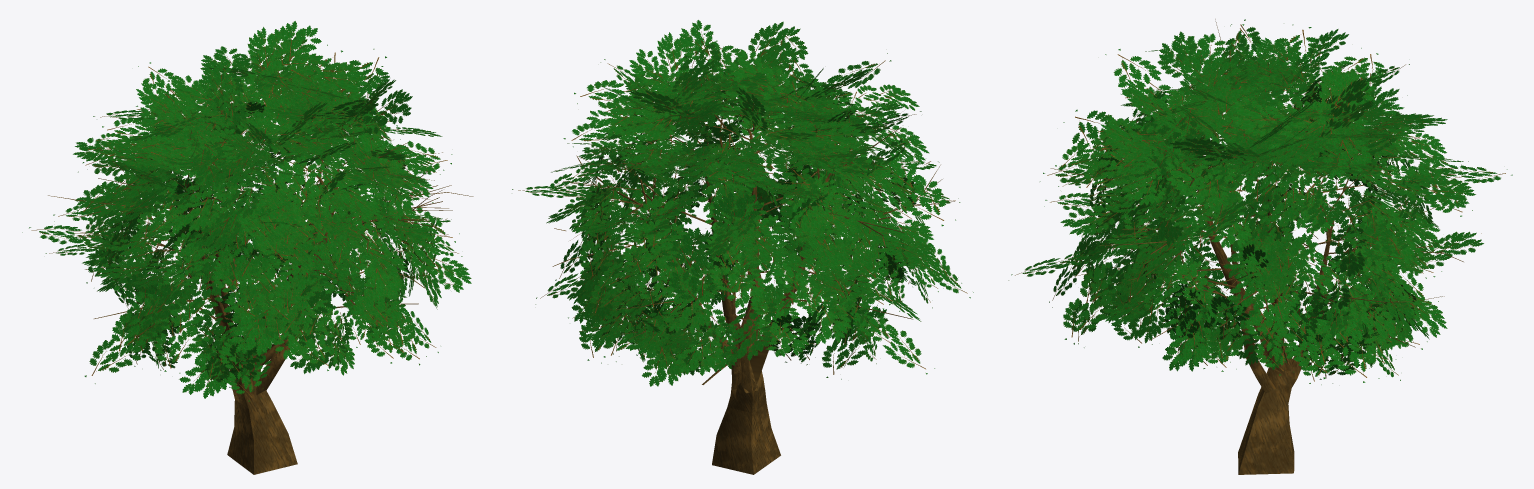
The model's file is roble_modelo.fbx.
3 renders of one model, left to right at view 1: azimuth 30°, elevation 25°; view 2: azimuth 150°, elevation 25°; view 3: azimuth 270°, elevation 25°, orthographic. The views are drawn at different scales.
Visible parts, largest first — view 1: roble_tronco_low:tronco2roble_low_3790f, polySurface351, polySurface182, polySurface111, polySurface135, polySurface57, polySurface327, polySurface326, polySurface370, polySurface78, polySurface42, polySurface205 (+95 smaller); view 2: roble_tronco_low:tronco2roble_low_3790f, polySurface101, polySurface134, polySurface176, polySurface368, polySurface39, polySurface99, polySurface13, polySurface194, polySurface217, polySurface223, polySurface88 (+90 smaller); view 3: roble_tronco_low:tronco2roble_low_3790f, polySurface25, polySurface47, polySurface382, polySurface118, polySurface26, polySurface239, polySurface337, polySurface281, polySurface28, polySurface152, polySurface343 (+93 smaller).
Part boxes in pixels (x1,y1,x2,y2): roble_tronco_low:tronco2roble_low_3790f: [48, 112, 473, 474]; polySurface351: [281, 53, 368, 103]; polySurface182: [275, 155, 334, 240]; polySurface111: [217, 203, 275, 290]; polySurface135: [77, 165, 168, 219]; polySurface57: [154, 299, 209, 373]; polySurface327: [171, 168, 238, 232]; polySurface326: [193, 182, 259, 252]; polySurface370: [247, 27, 289, 108]; polySurface78: [243, 258, 301, 322]; polySurface42: [356, 289, 415, 356]; polySurface205: [179, 326, 240, 398]; roble_tronco_low:tronco2roble_low_3790f: [552, 79, 954, 474]; polySurface101: [658, 226, 722, 309]; polySurface134: [873, 150, 955, 226]; polySurface176: [730, 144, 821, 189]; polySurface368: [765, 119, 865, 154]; polySurface39: [721, 293, 776, 364]; polySurface99: [622, 219, 688, 278]; polySurface13: [849, 300, 934, 374]; polySurface194: [673, 303, 726, 375]; polySurface217: [571, 244, 622, 326]; polySurface223: [639, 309, 686, 386]; polySurface88: [579, 203, 633, 281]; roble_tronco_low:tronco2roble_low_3790f: [1050, 19, 1463, 474]; polySurface25: [1271, 289, 1338, 378]; polySurface47: [1063, 261, 1128, 344]; polySurface382: [1230, 96, 1320, 140]; polySurface118: [1262, 230, 1318, 306]; polySurface26: [1315, 304, 1379, 382]; polySurface239: [1166, 285, 1216, 366]; polySurface337: [1315, 103, 1371, 179]; polySurface281: [1389, 174, 1475, 209]; polySurface28: [1245, 303, 1296, 375]; polySurface152: [1092, 118, 1190, 163]; polySurface343: [1181, 154, 1236, 209].
Bounding box in the file's own units: 1459 × 1400 × 1582.
2 materials, 2 textured.
